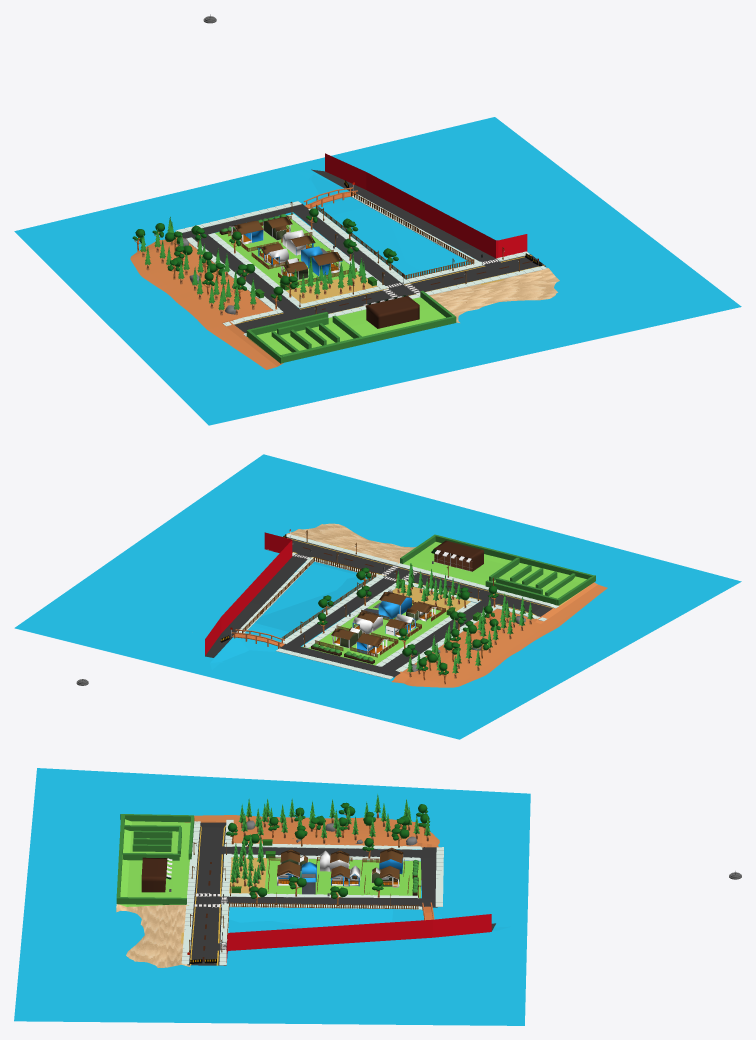
Rendered from CHECK city.fbx.
The picture shows the model from 3 angles, top to bottom: view 1: azimuth 30°, elevation 25°; view 2: azimuth 150°, elevation 25°; view 3: azimuth 270°, elevation 25°; orthographic projection. The views are drawn at different scales.
Parts seen in each view (by area): view 1: road.001; view 2: road.001; view 3: road.001.
Boxes of the visible parts, x1,y1,x2,y2 form: road.001: (14,14,741,425); road.001: (14,454,741,739); road.001: (14,768,741,1025).
Bounding box in the file's own units: 24934 × 3763 × 29735.
63 materials, 1 textured.
